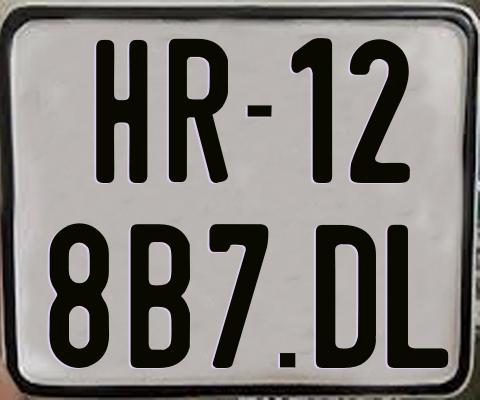1: (290, 38, 333, 185)
2: (348, 36, 411, 181)
7: (208, 221, 272, 368)
8: (48, 220, 114, 368)
B: (129, 222, 193, 368)
D: (313, 222, 375, 368)
H: (94, 38, 149, 182)
L: (387, 224, 449, 372)
R: (166, 38, 229, 182)
